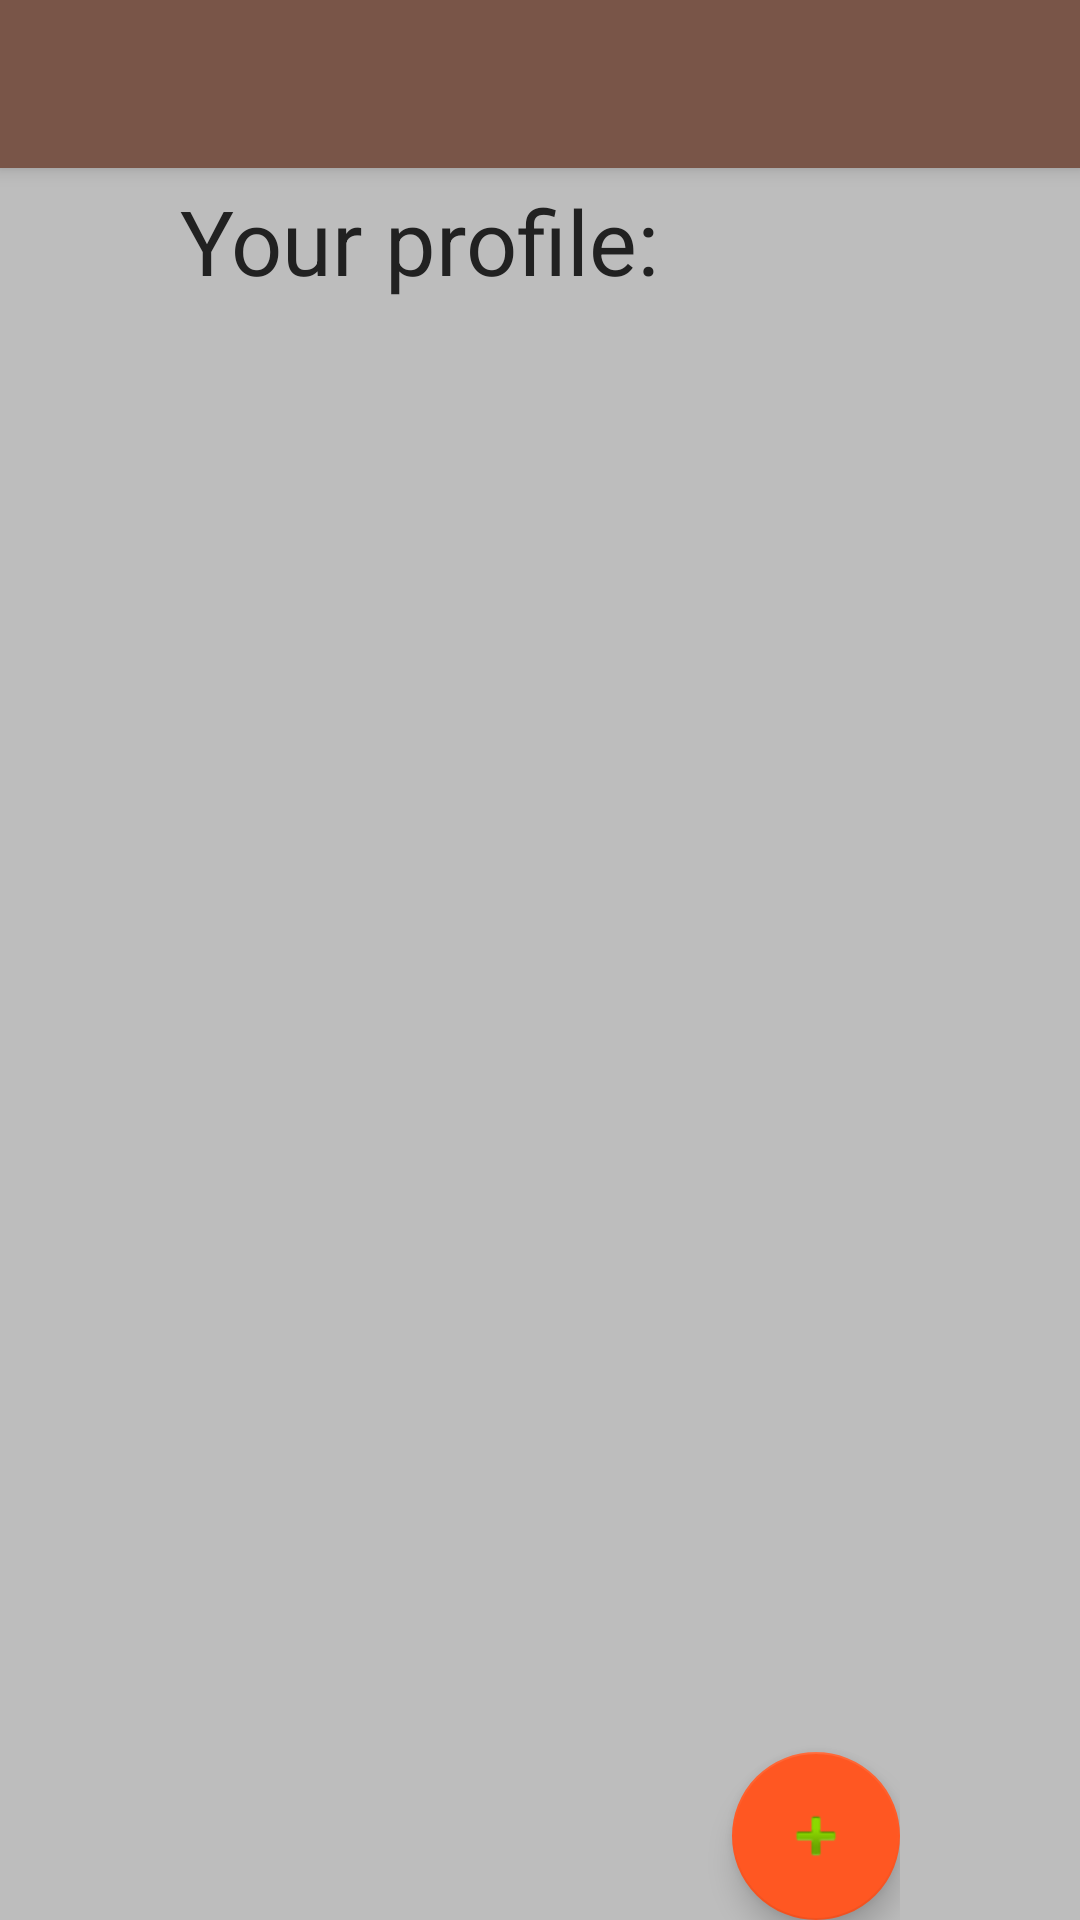

Icons on this 1080 × 1920 Android screen, each with its box as (x1,y1,x2,y2):
add: (732,1752,900,1920)
